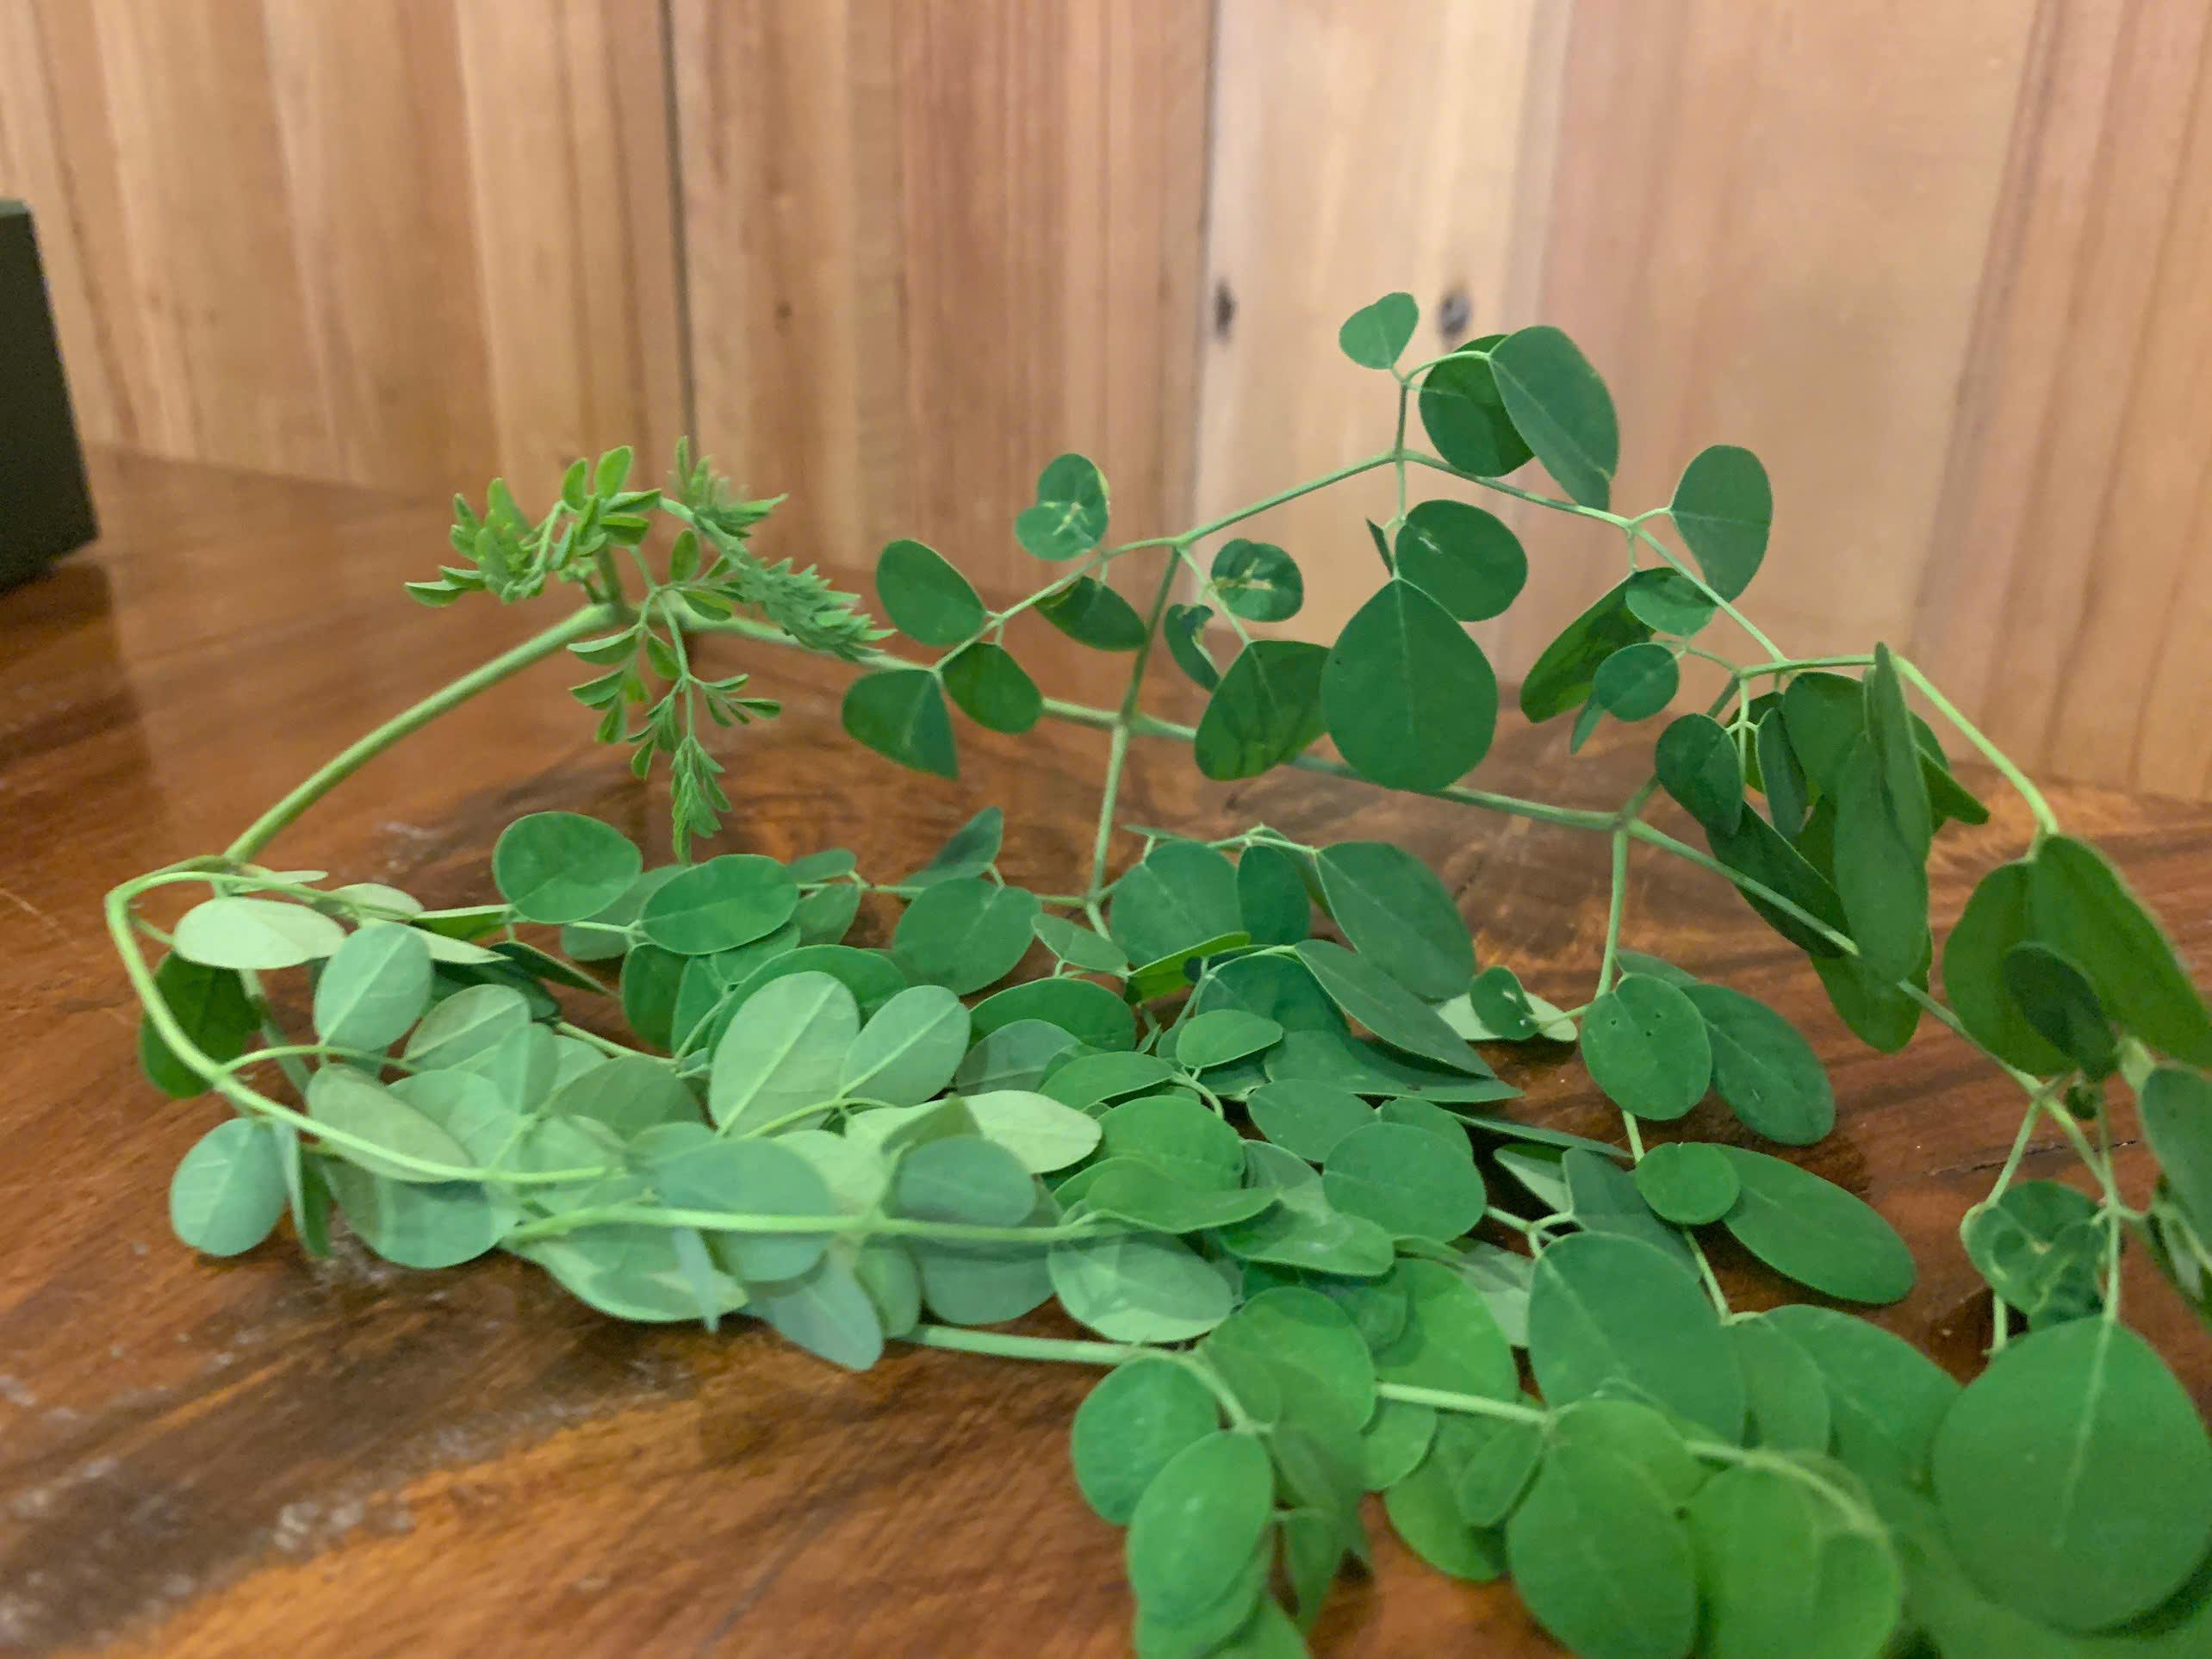Huu co: (121, 299, 2192, 1581)
